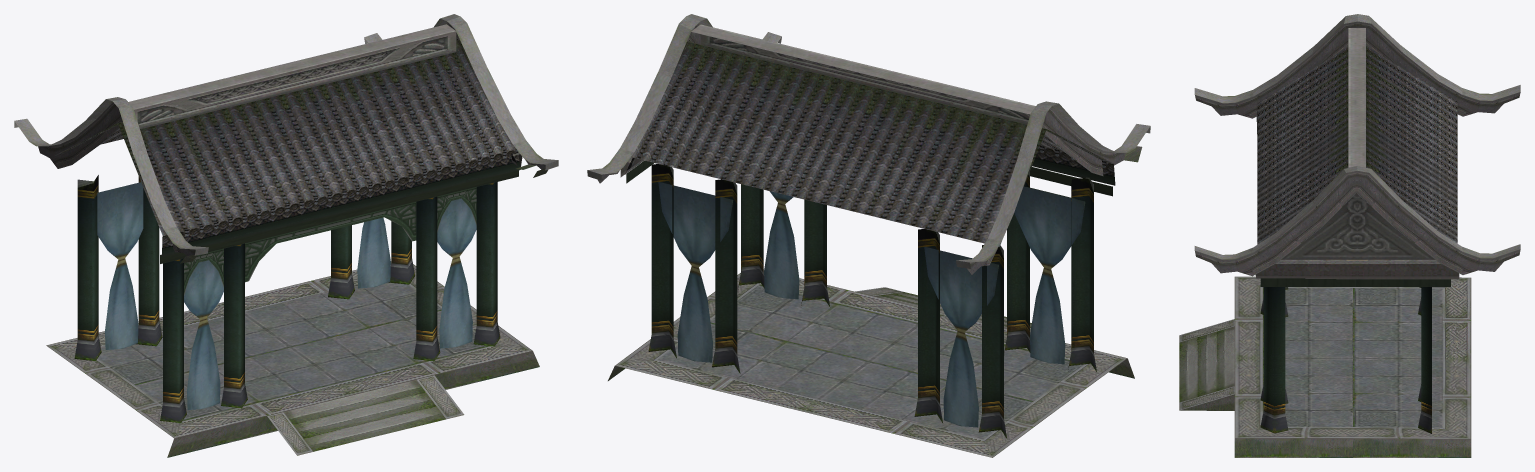
Rendered from yw_yanziwu_changlang.FBX.
3 renders of one model, left to right at view 1: azimuth 30°, elevation 25°; view 2: azimuth 150°, elevation 25°; view 3: azimuth 270°, elevation 25°, orthographic. The views are drawn at different scales.
Visible parts, largest first — view 1: yw_yanziwu_changlang; view 2: yw_yanziwu_changlang; view 3: yw_yanziwu_changlang.
Part boxes in pixels (x1,y1,x2,y2): yw_yanziwu_changlang: [14, 14, 558, 457]; yw_yanziwu_changlang: [587, 14, 1150, 457]; yw_yanziwu_changlang: [1179, 14, 1520, 457].
Size of the model in its own units: 822 by 643 by 706.
